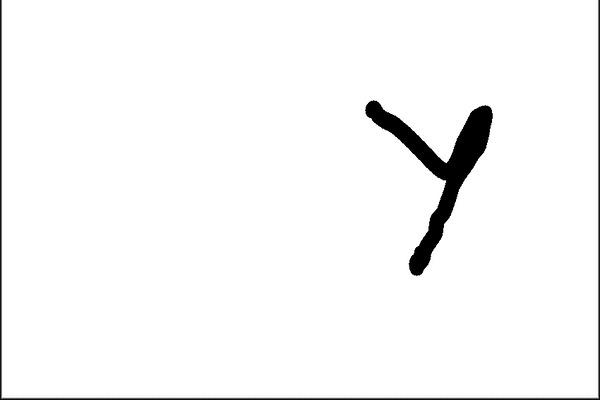Y: (349, 89, 502, 286)
